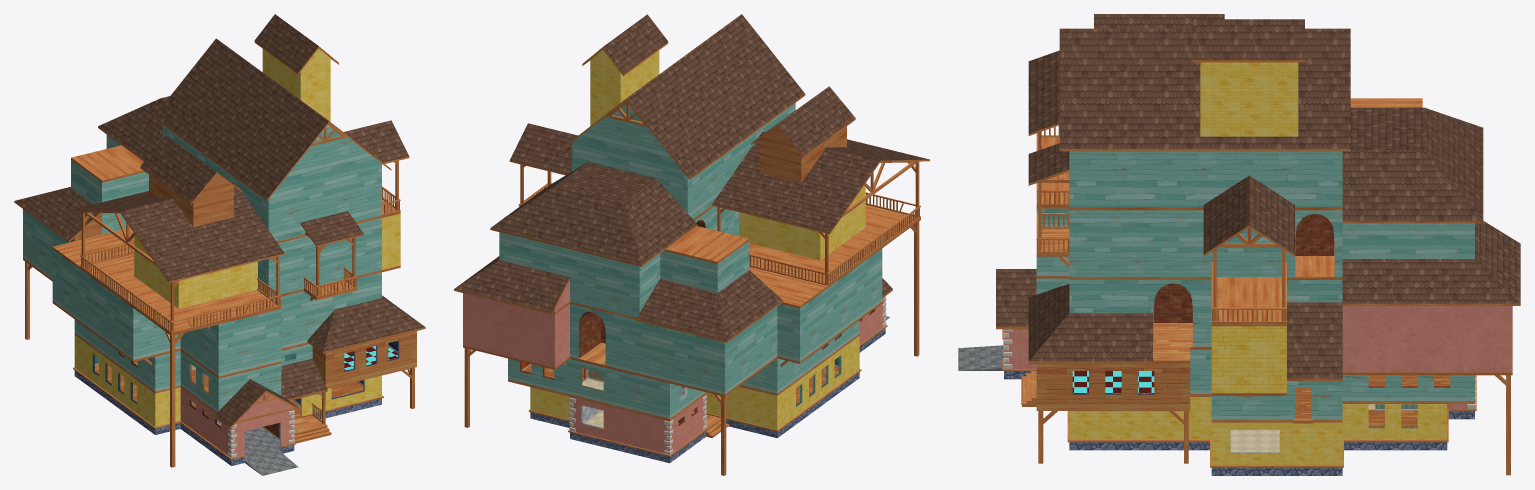
3 renders of one model, left to right at view 1: azimuth 30°, elevation 25°; view 2: azimuth 150°, elevation 25°; view 3: azimuth 270°, elevation 25°, orthographic. The views are drawn at different scales.
Parts seen in each view (by area): view 1: Object_21, Object_49, Object_44, Object_7, Object_51, Object_17, Object_33, Object_28, Object_42, Object_2; view 2: Object_21, Object_49, Object_44, Object_7, Object_17, Object_28, Object_4, Object_29, Object_51; view 3: Object_21, Object_49, Object_7, Object_44, Object_17, Object_51, Object_28, Object_4, Object_42, Object_31, Object_2, Object_33.
Boxes of the visible parts, x1=… form: Object_21: x1=15, y1=14, x2=425, y2=426; Object_49: x1=23, y1=125, x2=381, y2=411; Object_44: x1=14, y1=41, x2=425, y2=467; Object_7: x1=74, y1=48, x2=400, y2=426; Object_51: x1=237, y1=331, x2=416, y2=433; Object_17: x1=180, y1=388, x2=294, y2=456; Object_33: x1=217, y1=420, x2=298, y2=475; Object_28: x1=74, y1=370, x2=381, y2=465; Object_42: x1=95, y1=361, x2=363, y2=418; Object_2: x1=344, y1=346, x2=397, y2=370; Object_21: x1=454, y1=14, x2=929, y2=340; Object_49: x1=499, y1=103, x2=882, y2=418; Object_44: x1=454, y1=41, x2=929, y2=475; Object_7: x1=530, y1=49, x2=865, y2=429; Object_17: x1=463, y1=279, x2=885, y2=453; Object_28: x1=530, y1=328, x2=885, y2=463; Object_4: x1=579, y1=219, x2=875, y2=426; Object_29: x1=569, y1=297, x2=886, y2=454; Object_51: x1=579, y1=316, x2=720, y2=427; Object_21: x1=996, y1=14, x2=1520, y2=378; Object_49: x1=1036, y1=151, x2=1474, y2=419; Object_7: x1=1069, y1=62, x2=1446, y2=465; Object_44: x1=996, y1=59, x2=1520, y2=475; Object_17: x1=1004, y1=306, x2=1512, y2=408; Object_51: x1=1031, y1=323, x2=1192, y2=407; Object_28: x1=1004, y1=371, x2=1474, y2=475; Object_4: x1=1153, y1=213, x2=1334, y2=322; Object_42: x1=1295, y1=375, x2=1450, y2=426; Object_31: x1=1230, y1=404, x2=1375, y2=452; Object_2: x1=1072, y1=371, x2=1154, y2=393; Object_33: x1=958, y1=345, x2=1003, y2=370.
Size of the model in its own units: 28 by 28.43 by 34.4.
32 materials, 32 textured.
